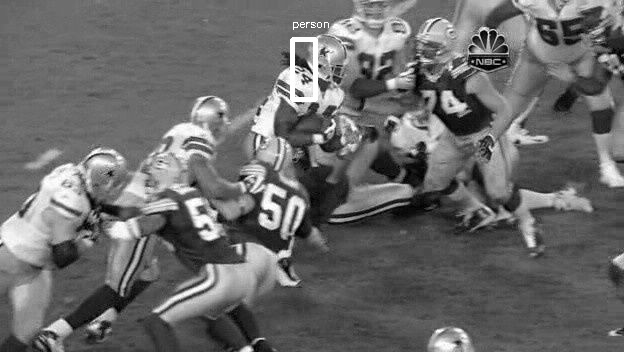person: (311, 39, 346, 83), (310, 39, 345, 83), (312, 39, 347, 83), (311, 38, 346, 82), (311, 40, 346, 84)
target_negative: (122, 24, 505, 183), (305, 123, 409, 315), (459, 171, 567, 278), (341, 250, 482, 309), (137, 34, 372, 44), (47, 345, 219, 348)
